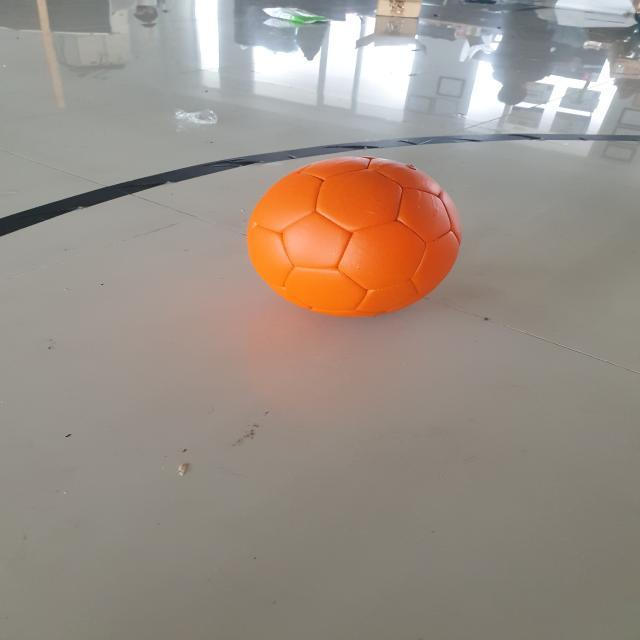bola: (247, 151, 469, 320)
